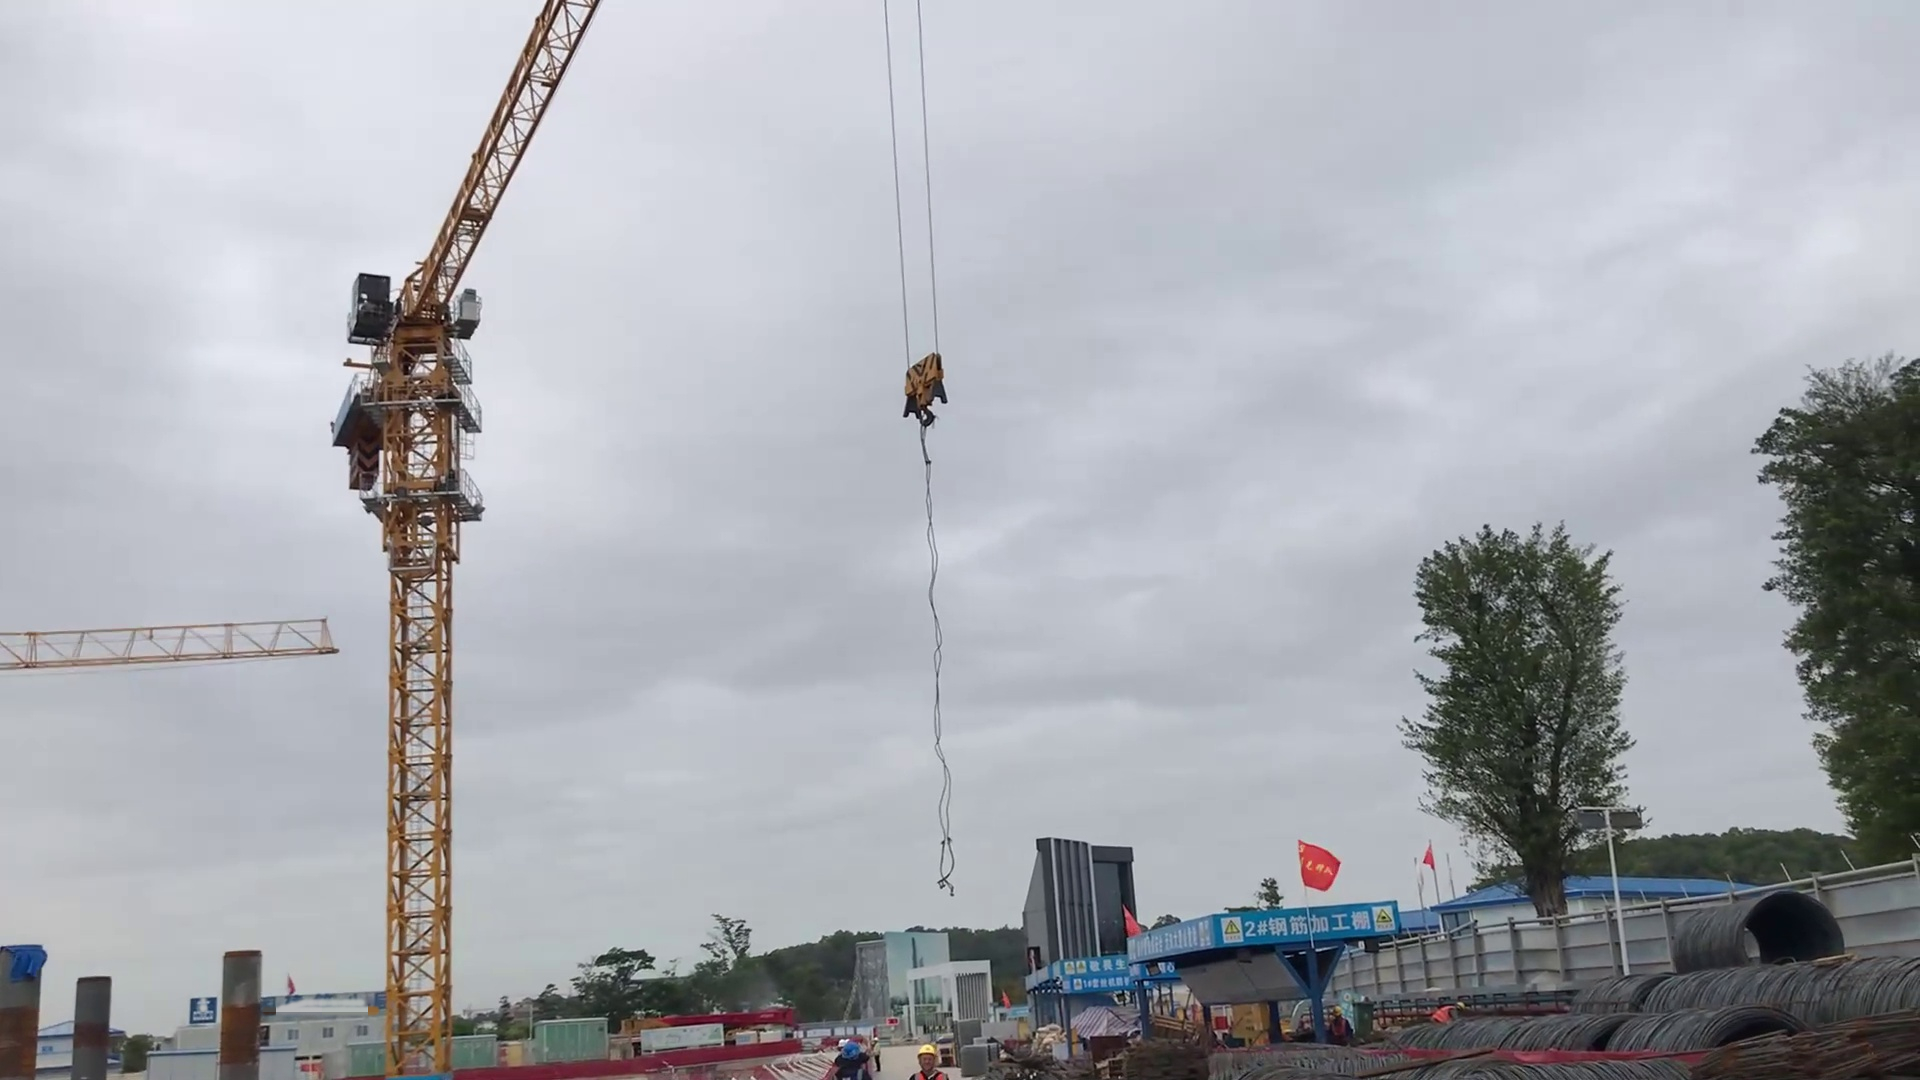helmet: (916, 1027, 948, 1056)
hook: (895, 347, 963, 431)
